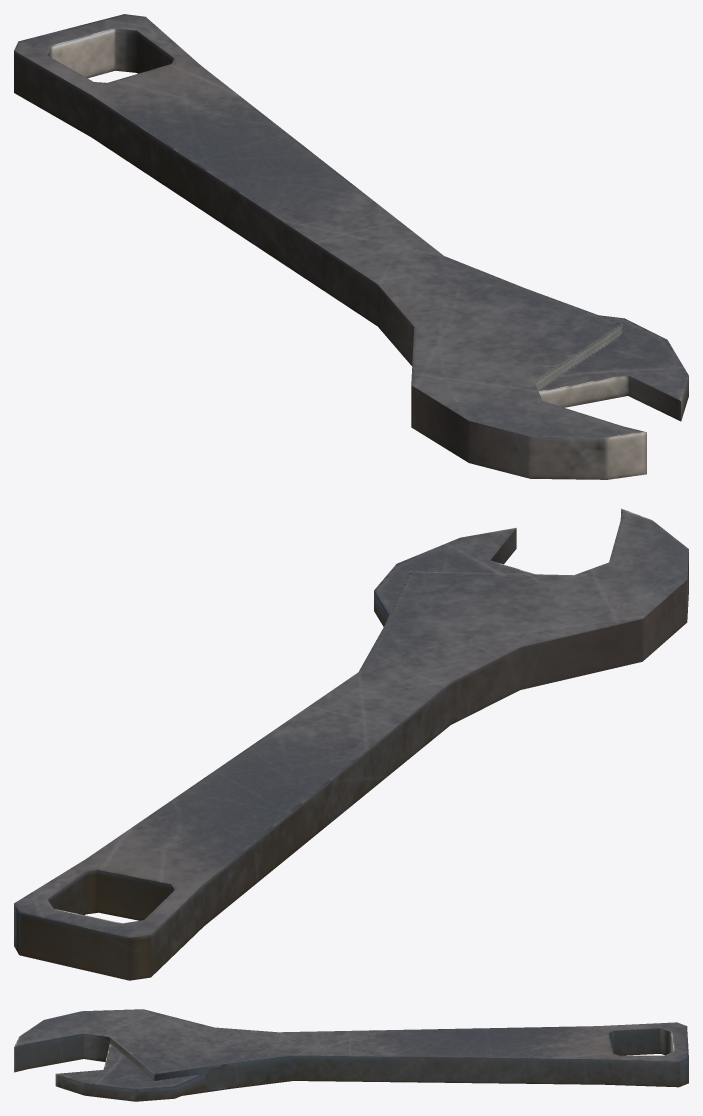
File: tool_Wrench.fbx
3 views of the same model, one above another, from view 1: azimuth 30°, elevation 25°; view 2: azimuth 150°, elevation 25°; view 3: azimuth 270°, elevation 25° (orthographic). The views are drawn at different scales.
Visible parts, largest first — view 1: Wrench; view 2: Wrench; view 3: Wrench.
Part boxes in pixels (bbox=[...]): Wrench: bbox=[14, 14, 688, 479]; Wrench: bbox=[14, 508, 688, 980]; Wrench: bbox=[14, 1009, 688, 1101].
Size of the model in its own units: 9.93 by 1.62 by 38.48.
